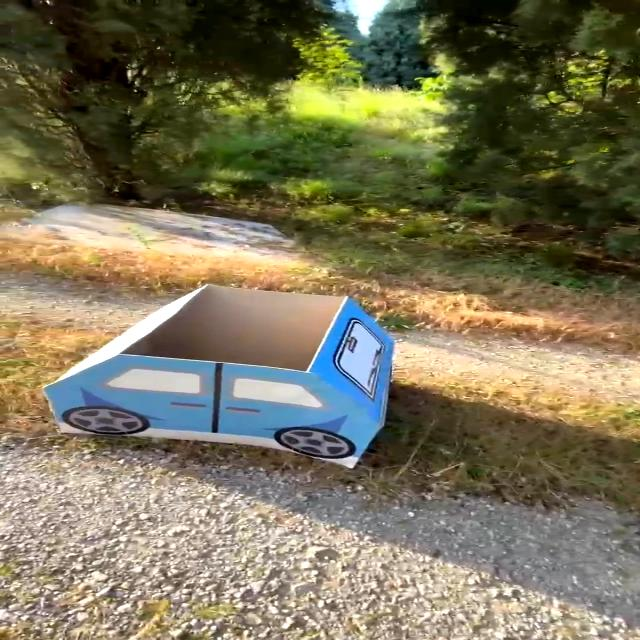blue_car: (7, 274, 444, 488)
